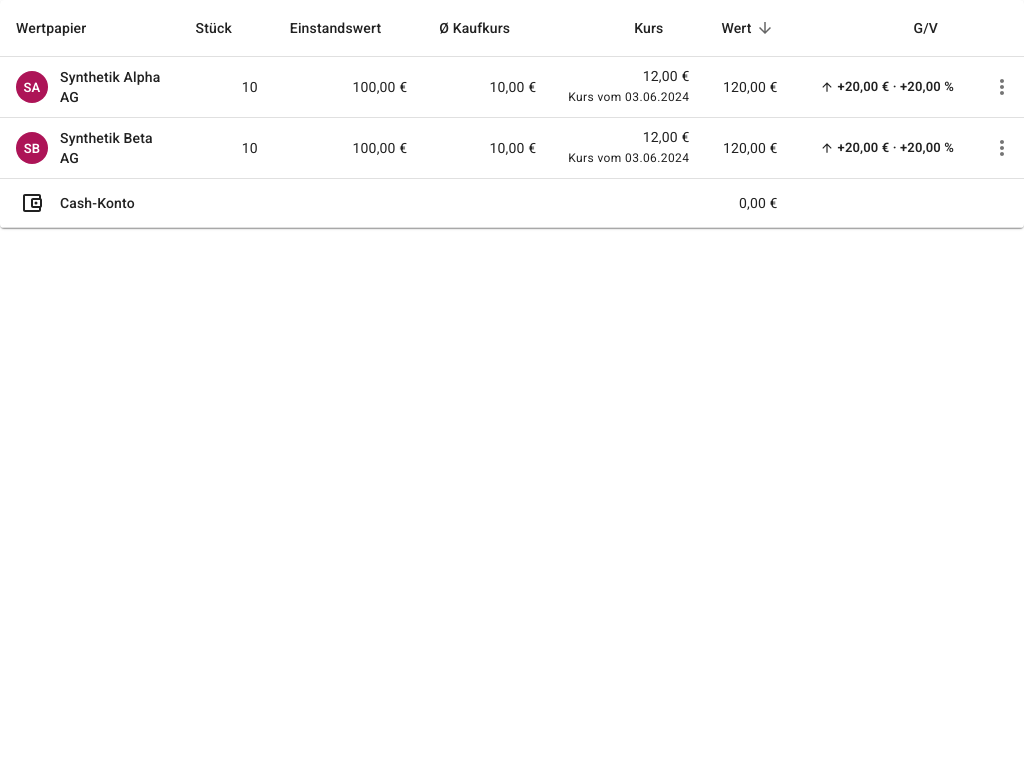
Test: SplitDialog › lists only the opened Security's splits
The image size is (1024, 768).
What coordinates should you click on to do the following:
click the button named "Aktionen für Synthetik Alpha AG"
I would click on:
 (1002, 87)
Its box is x1=980 y1=65 x2=1023 y2=109.
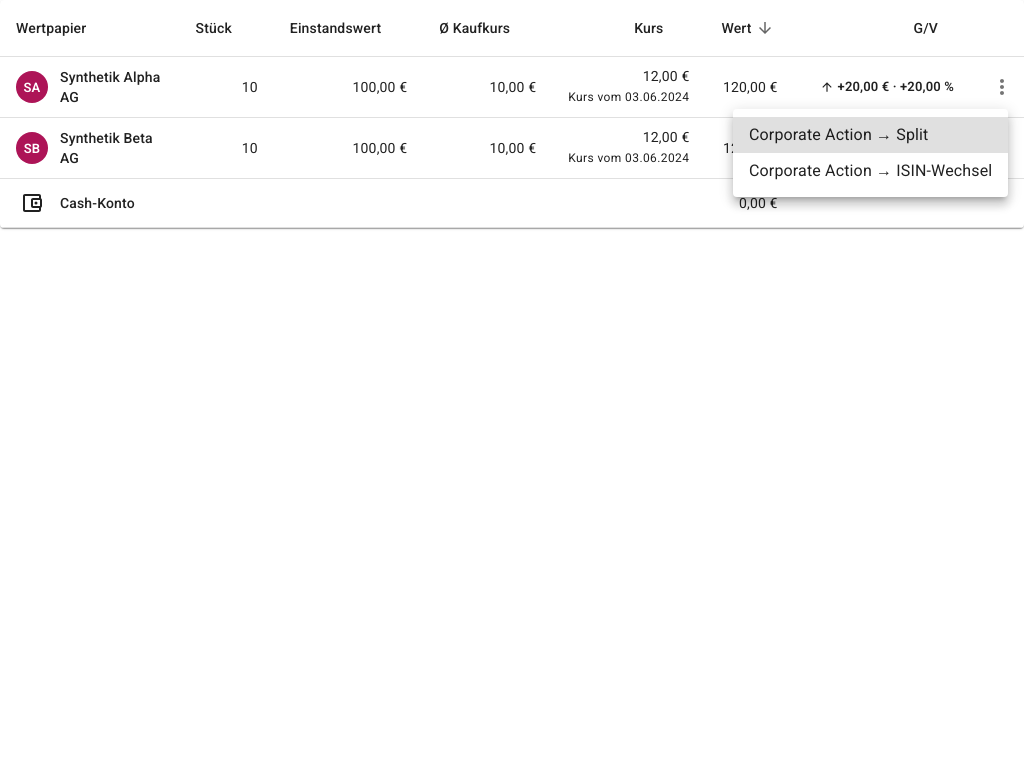
What coordinates should you click on to do the following:
click the menu item "Corporate Action → Split"
I would click on:
 (871, 135)
Its box is x1=733 y1=117 x2=1008 y2=153.
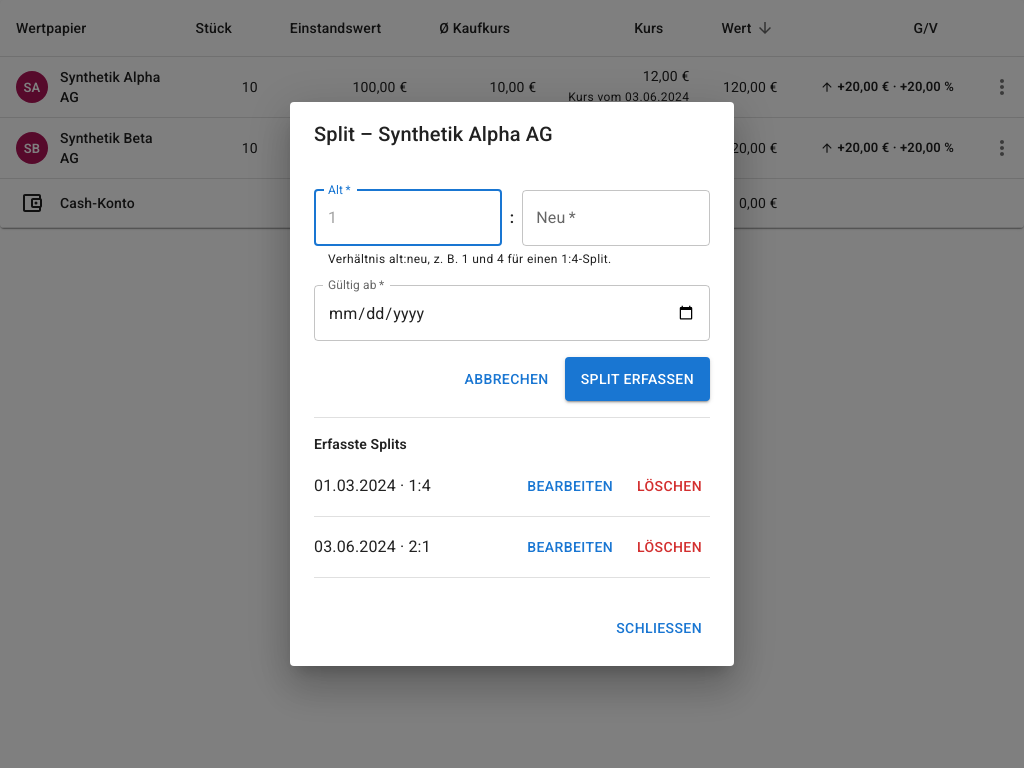
Expected: the number of list items is 2, x1=314 y1=456 x2=710 y2=517; x1=314 y1=517 x2=710 y2=578
